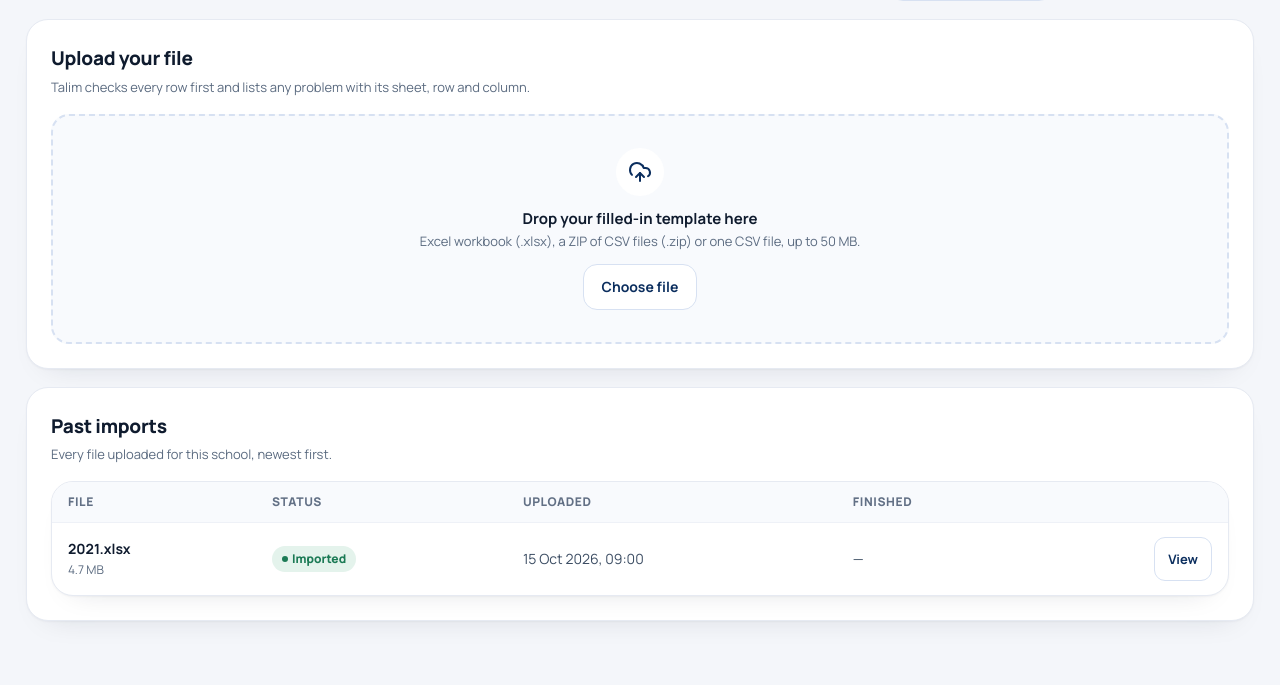
Test: HistoryImportPage › lists past imports and opens one
(page scrolled)
Expected: the text "Imported" is shown, [272,546,356,572]
Click the button with aria-label "View 2021.xlsx".
click(1183, 559)  # box [1154,537,1212,581]
(page scrolled)
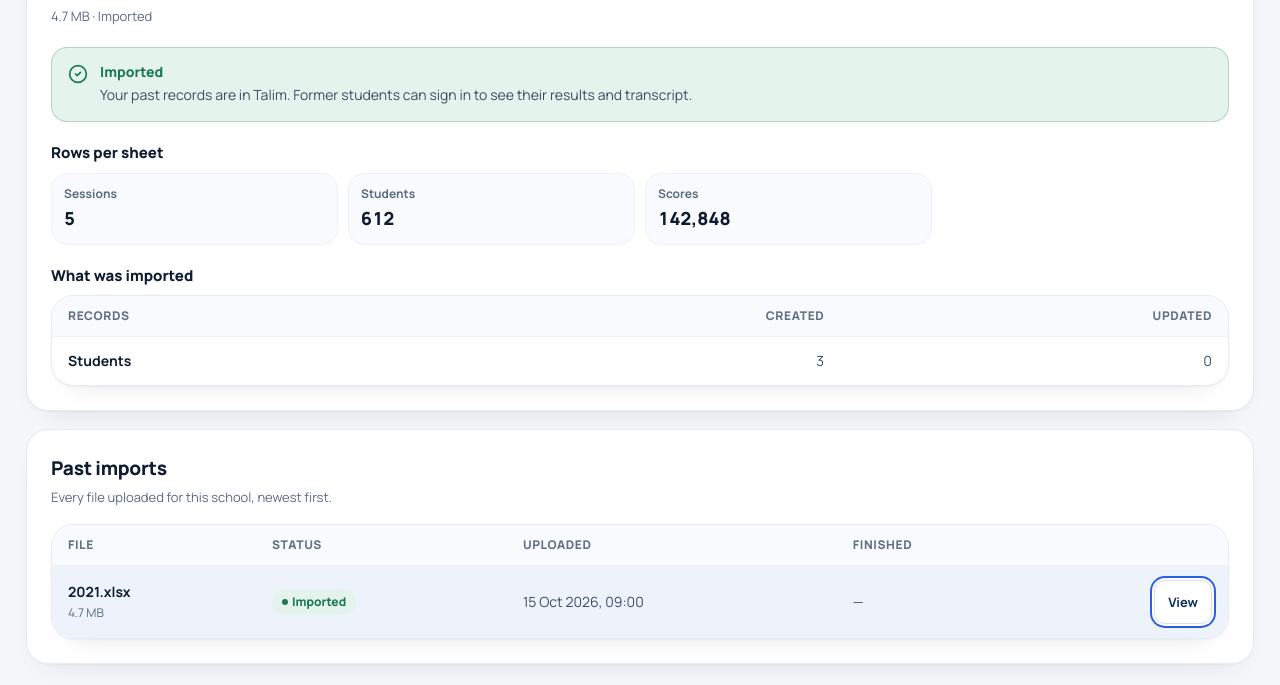
Result: the element "What was imported" is shown at [51,264,1229,386]
